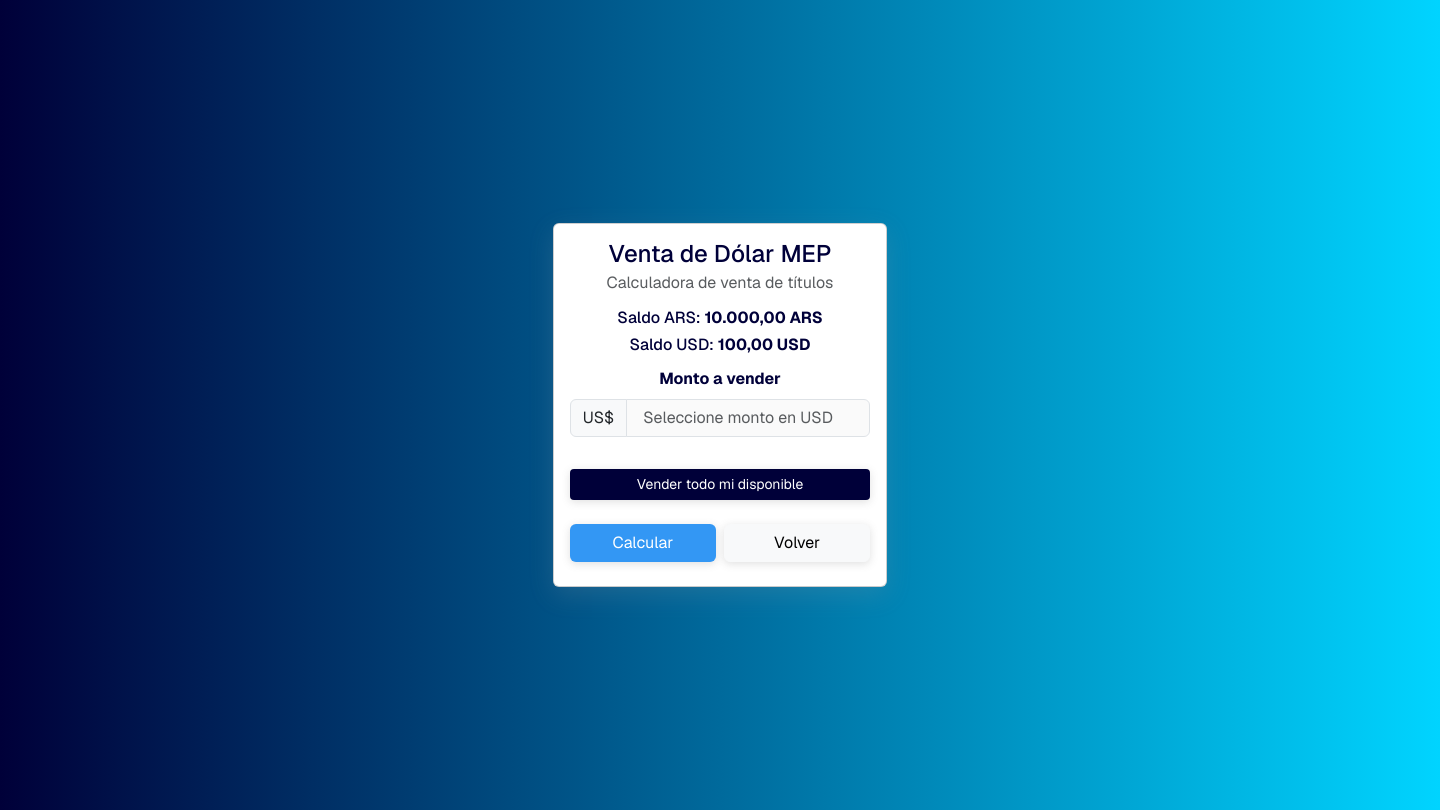
Scenario: SellCard Component › should show more data and Sell button on Calculate button click
The image size is (1440, 810).
Type "50" into the number field with placeholder "Seleccione monto en USD" at x=748, y=418, box [626,399,870,437]
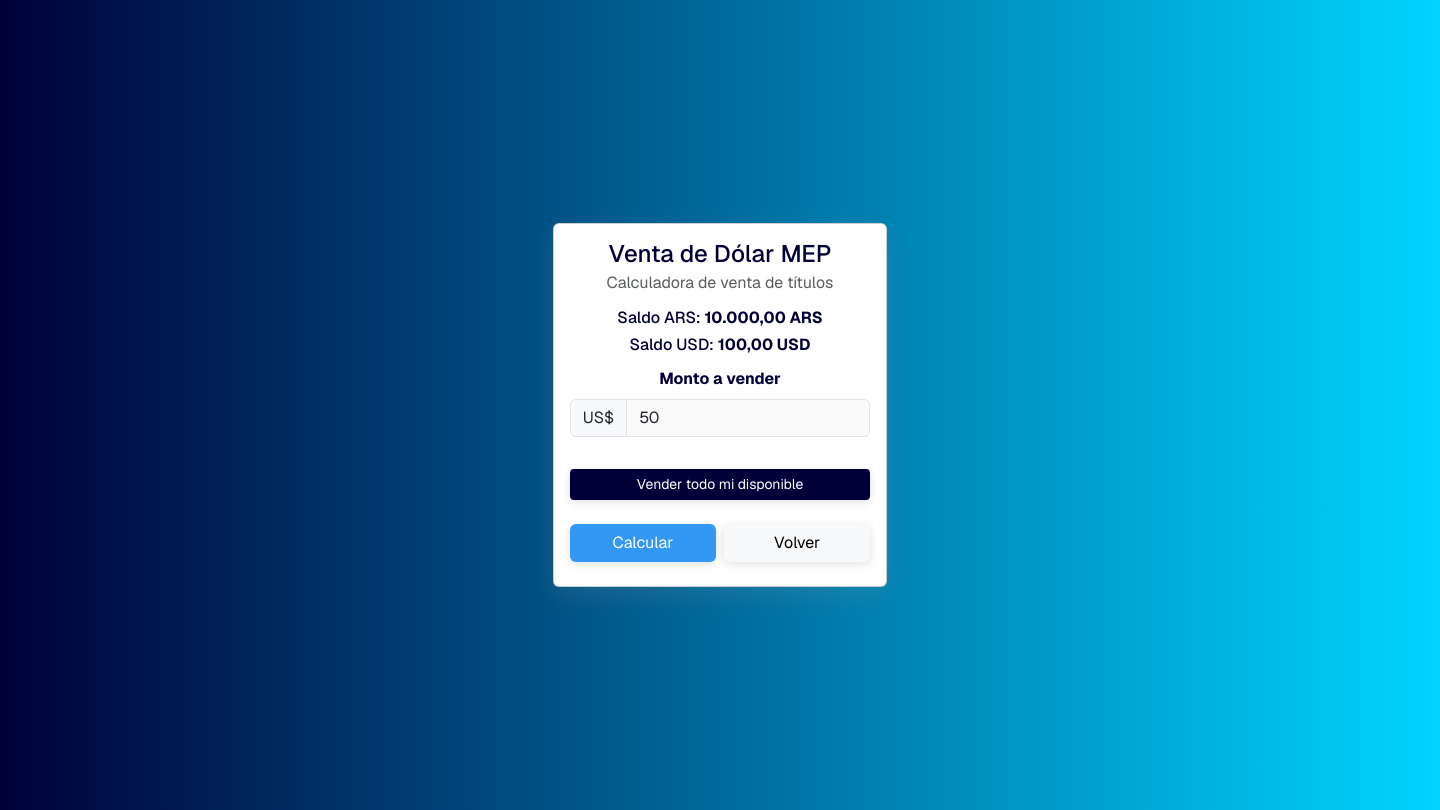
Click the button "Calcular" at x=643, y=543, box [570,524,716,562]
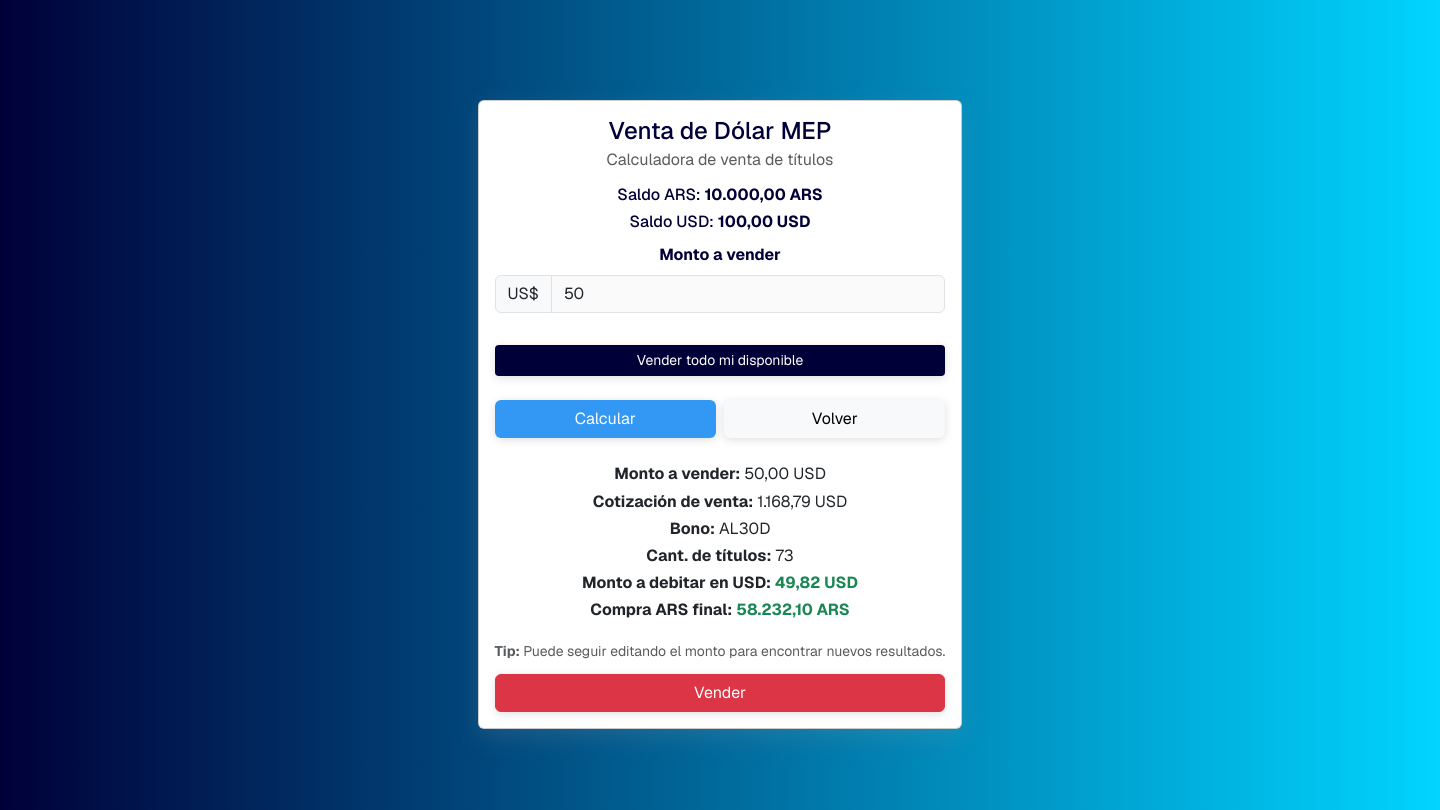
Result: the button "Vender" is shown at [495,674,945,712]
